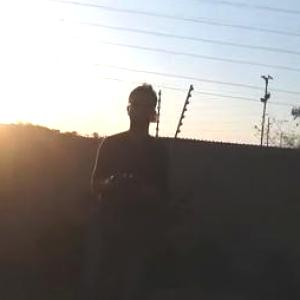follow: (85, 77, 172, 299)
